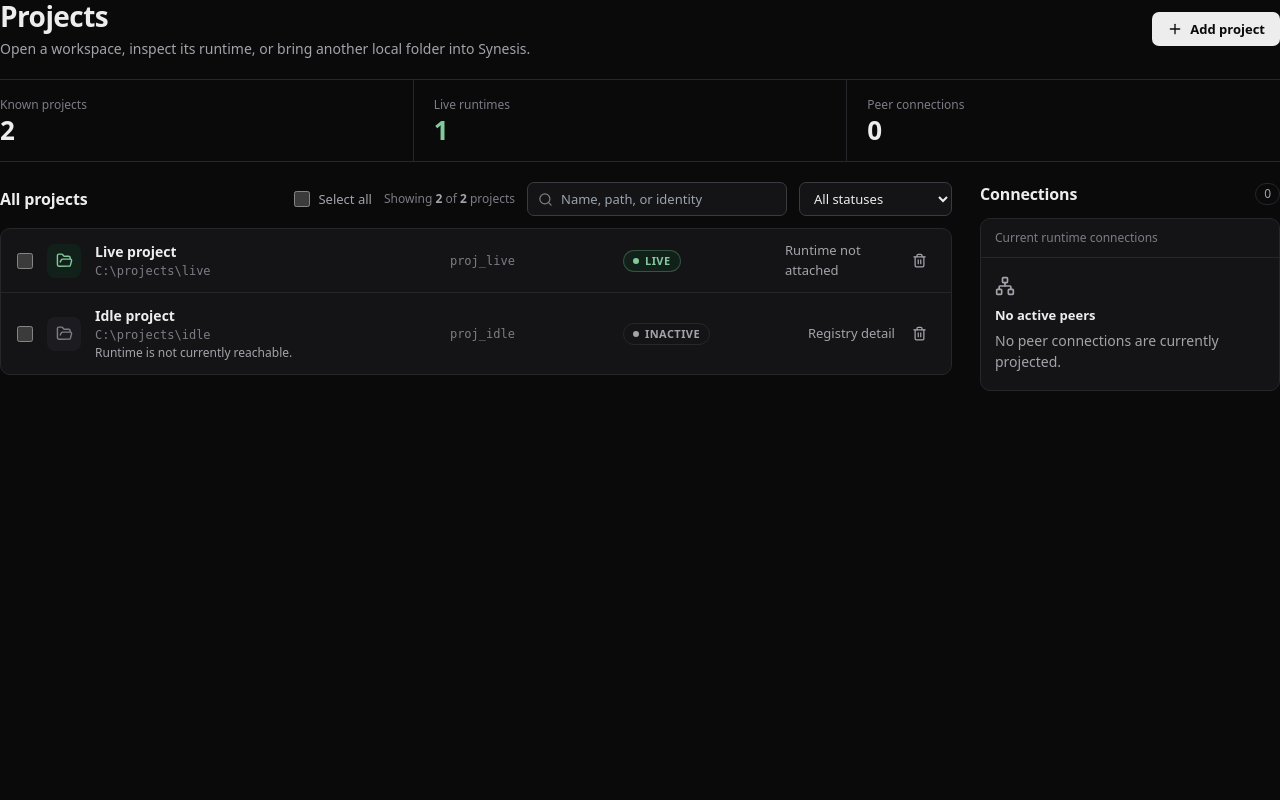
Scenario: truthful product states › restores an optimistically removed project when registry removal fails
The width and height of the screenshot is (1280, 800).
What coordinates should you click on to do the following:
click the button named "Remove Idle project from registry"
I would click on:
 (920, 334)
Its box is 905,319 -> 935,349.
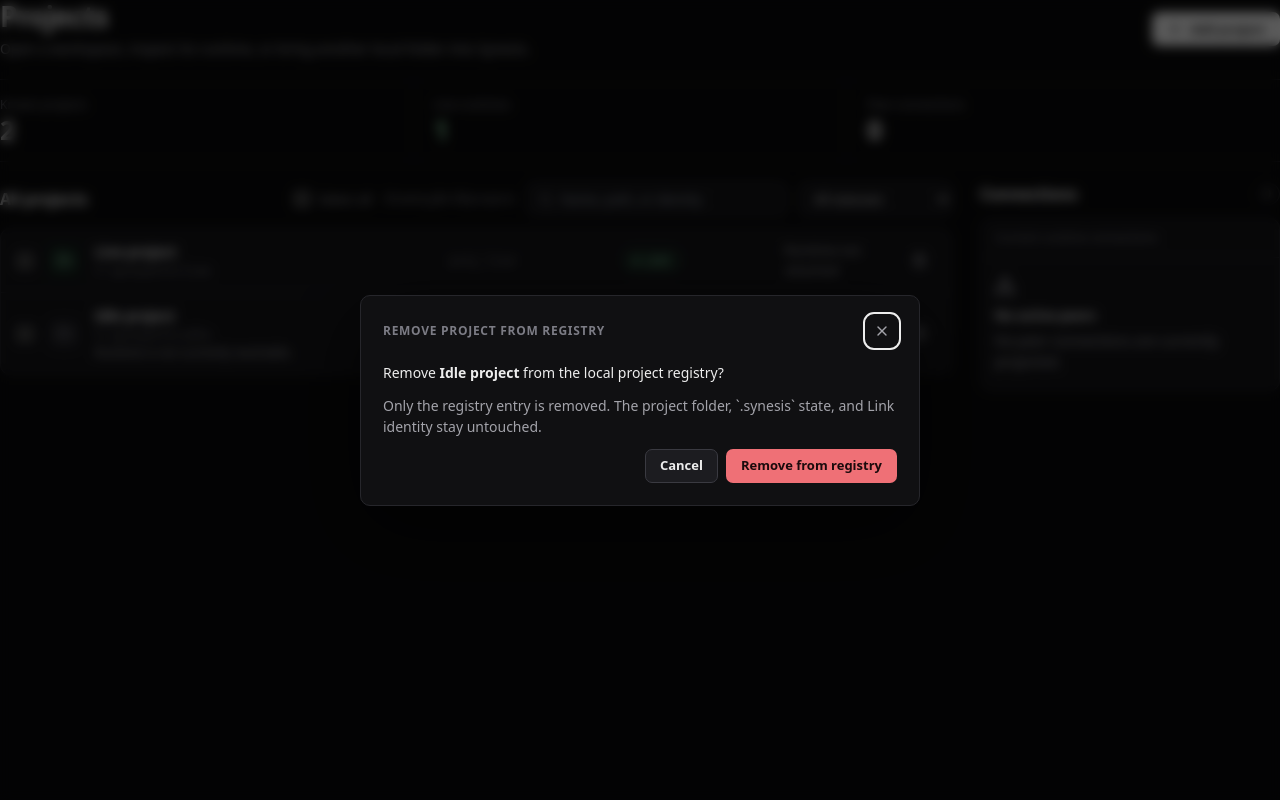
What coordinates should you click on to do the following:
click the button "Remove from registry"
I would click on:
 (811, 466)
Its box is 726,448 -> 897,482.
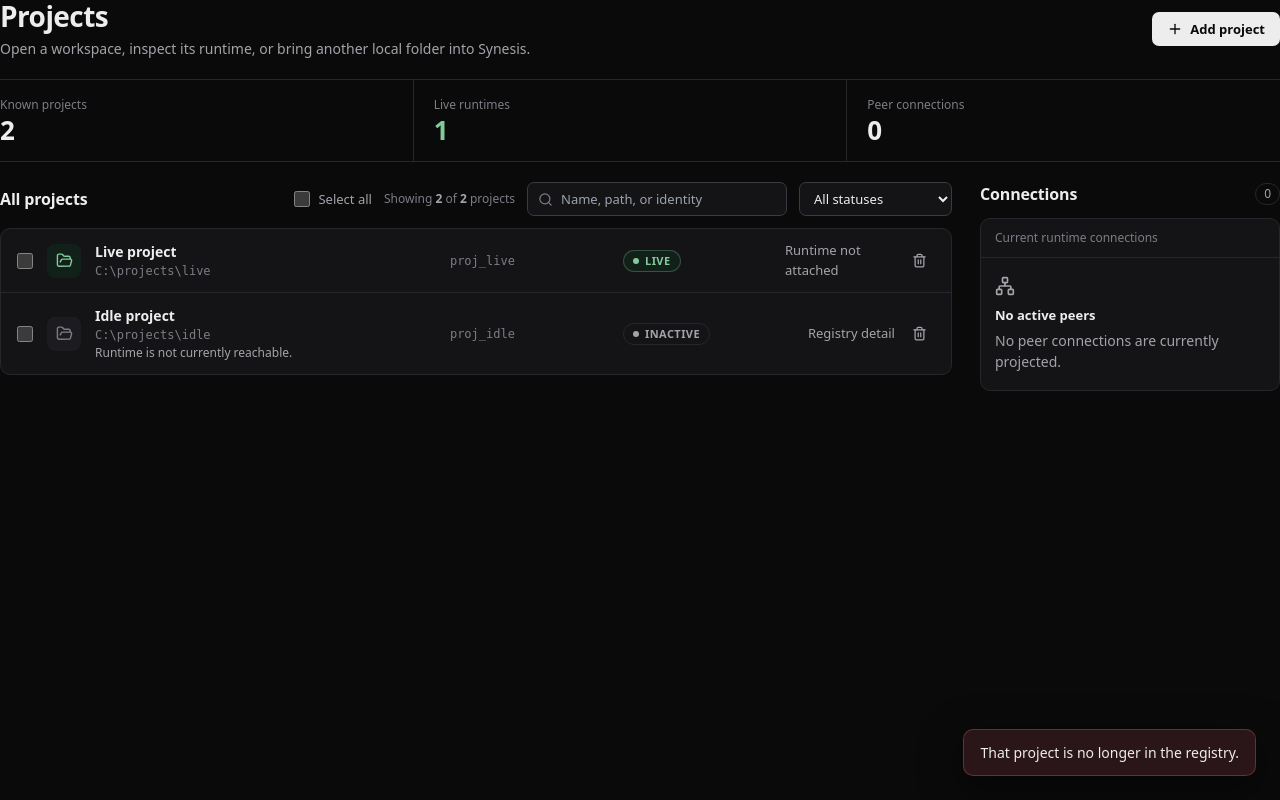
Check: the text "Idle project" is shown, box 95,306 -> 175,326
Check: the message shows "no longer in the registry", box 980,743 -> 1239,762
